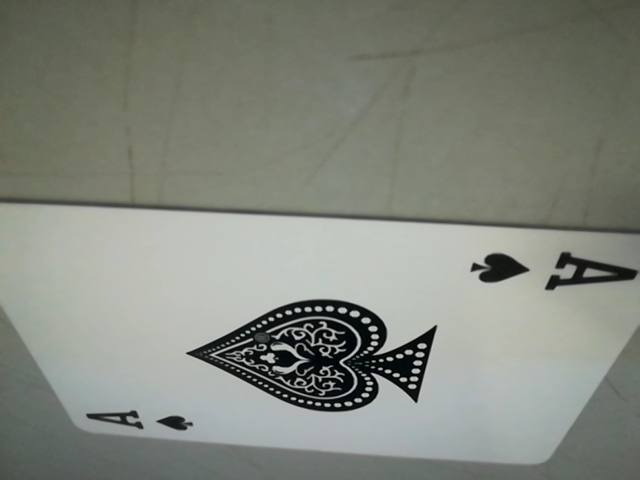ht a: (459, 245, 637, 296)
